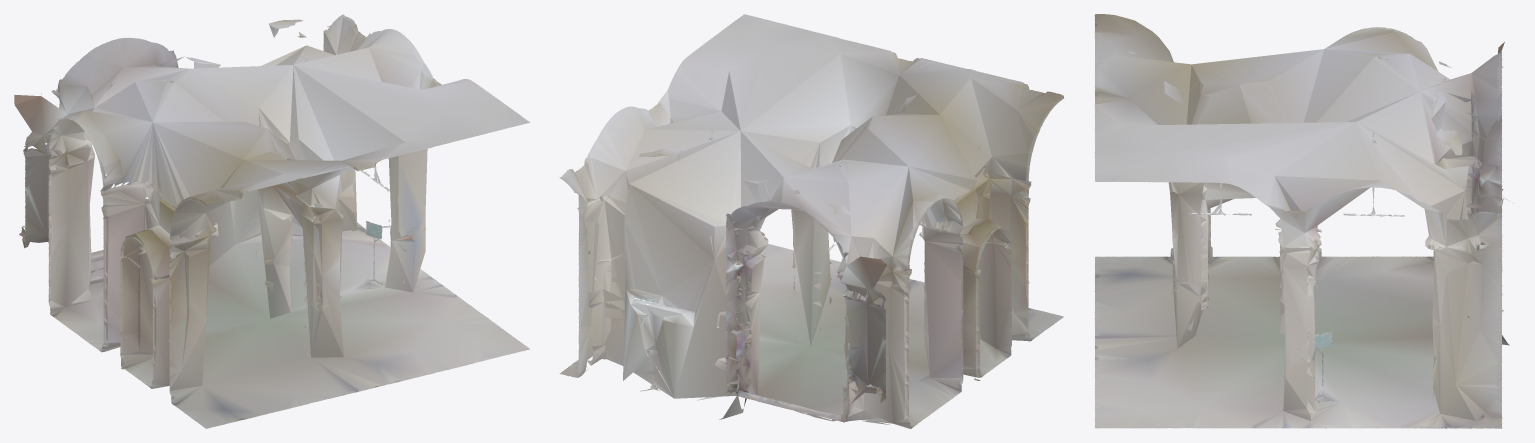
The picture shows the model from 3 angles, left to right: view 1: azimuth 30°, elevation 25°; view 2: azimuth 150°, elevation 25°; view 3: azimuth 270°, elevation 25°; orthographic projection. The views are drawn at different scales.
Bounding box in the file's own units: 10.2 × 6.91 × 10.5.
